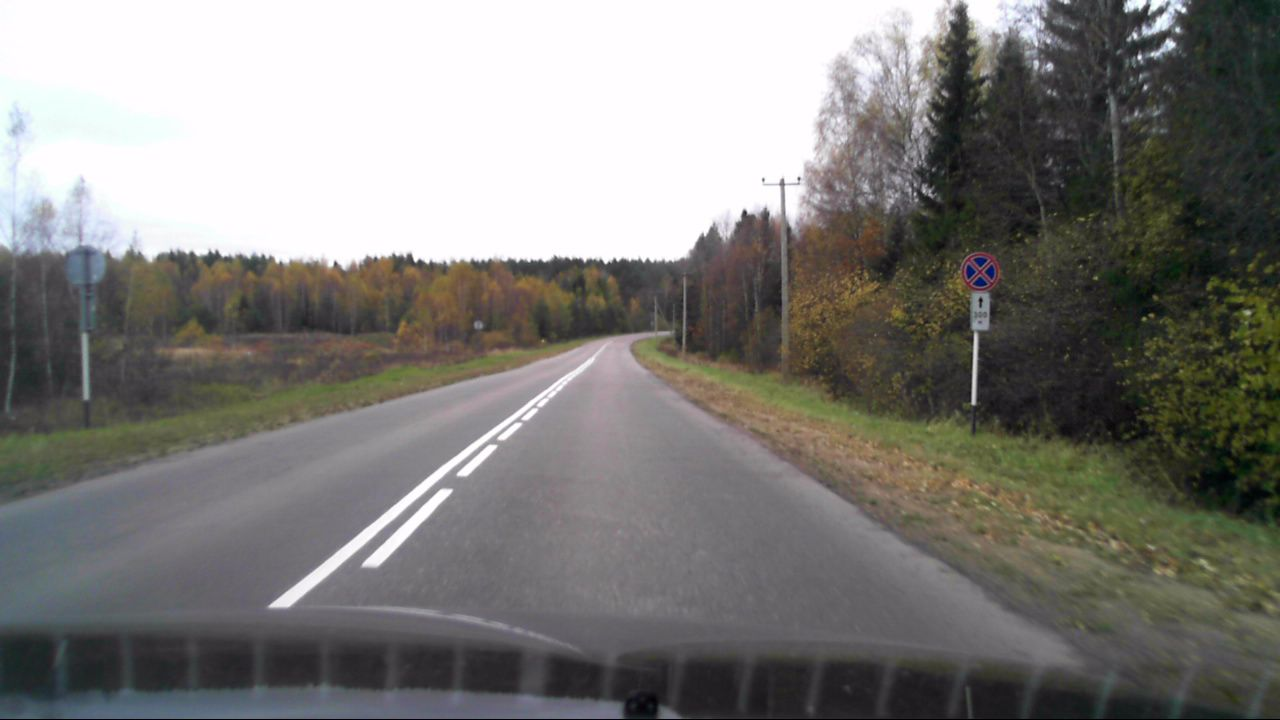No Parking: (960, 251, 1001, 291)
